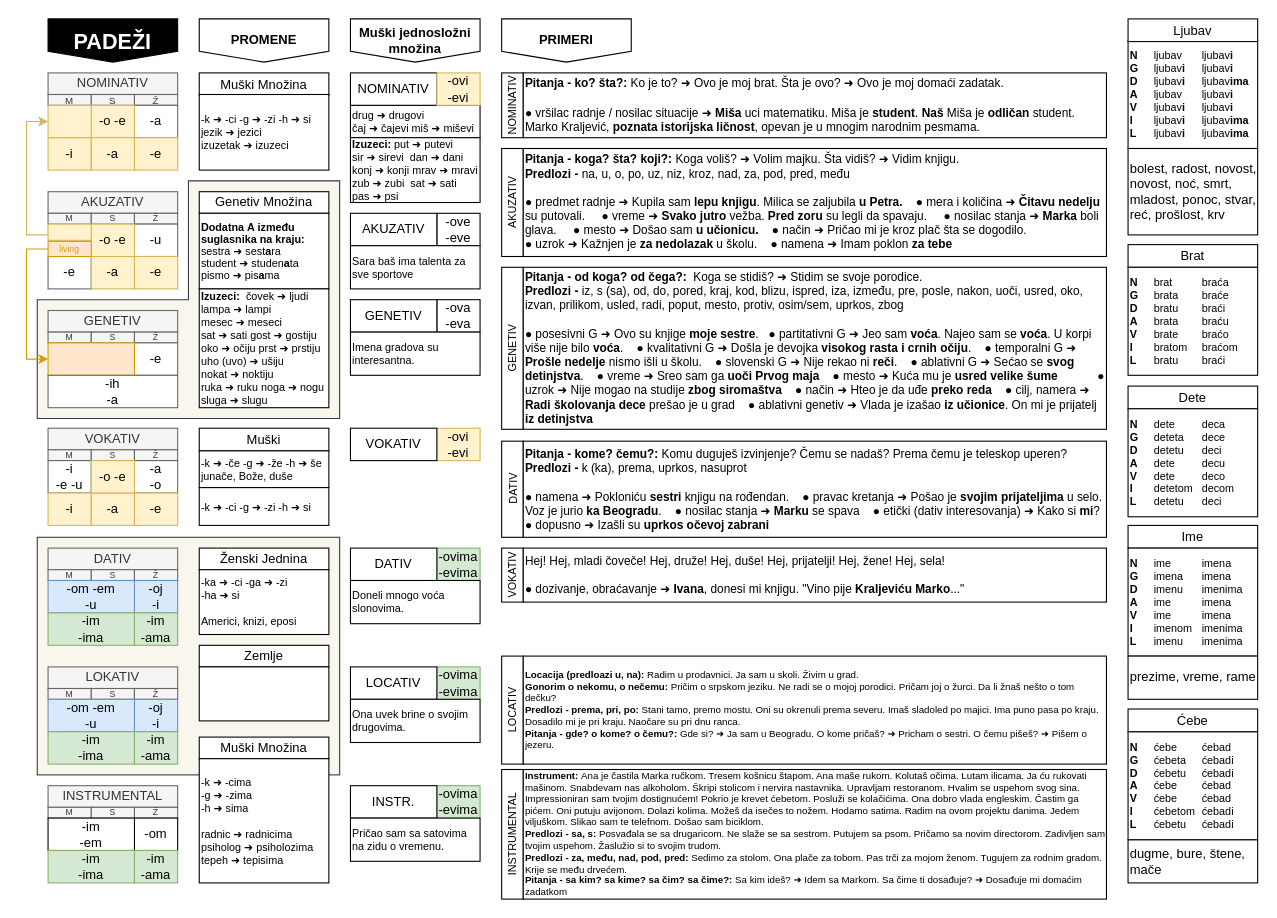
Some shapes in this 1277 by 918 pixel diagram are drawn without their labels. Here are the shapes that lost their labels. From the top down, the centre of each, then its label:
At [69,231]: "non living".
At [90,358]: "-og -eg -a".
At [263,693]: "-ska -ška -čka Poljska ➜ Poljskoj".
